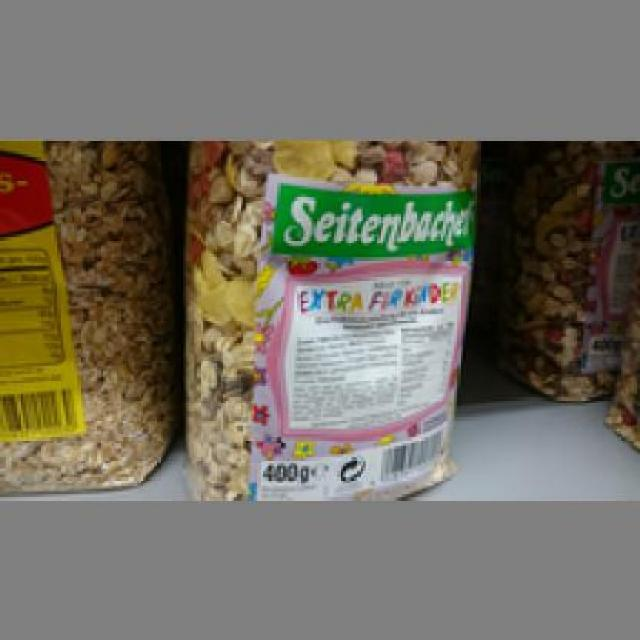Cereal: (182, 137, 475, 497), (0, 137, 166, 490)
